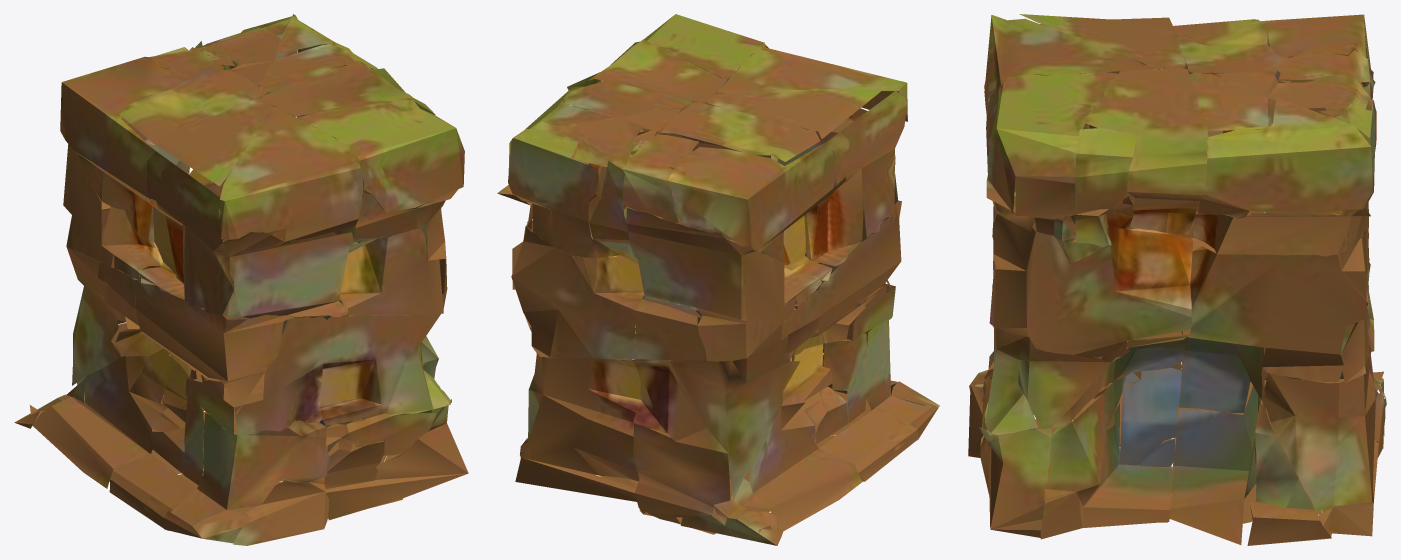
The model's file is loc_sa_bld_cavehouse.glb.
The picture shows the model from 3 angles, left to right: view 1: azimuth 30°, elevation 25°; view 2: azimuth 150°, elevation 25°; view 3: azimuth 270°, elevation 25°; orthographic projection. The views are drawn at different scales.
Visible parts, largest first — view 1: tripo_node_d26862e8-060e-4a0f-a871-4c16cde8643c; view 2: tripo_node_d26862e8-060e-4a0f-a871-4c16cde8643c; view 3: tripo_node_d26862e8-060e-4a0f-a871-4c16cde8643c.
Part boxes in pixels (x1,y1,x2,y2): tripo_node_d26862e8-060e-4a0f-a871-4c16cde8643c: [14, 14, 468, 545]; tripo_node_d26862e8-060e-4a0f-a871-4c16cde8643c: [497, 14, 939, 545]; tripo_node_d26862e8-060e-4a0f-a871-4c16cde8643c: [968, 14, 1386, 545].
Bounding box in the file's own units: 2.06 × 2.45 × 2.21.
1 material, 1 textured.
